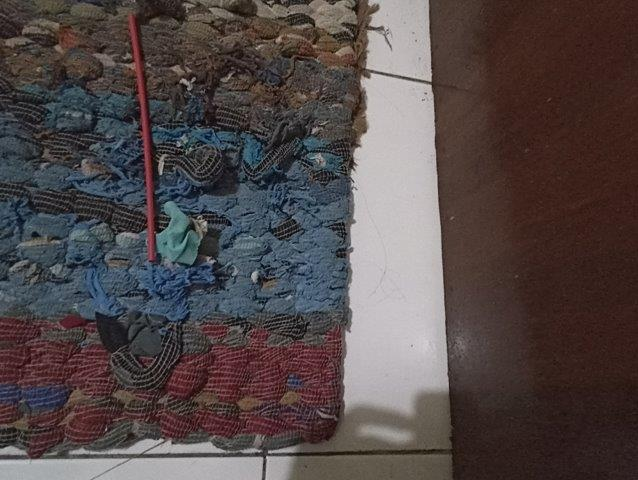sedotan: (128, 16, 156, 261)
